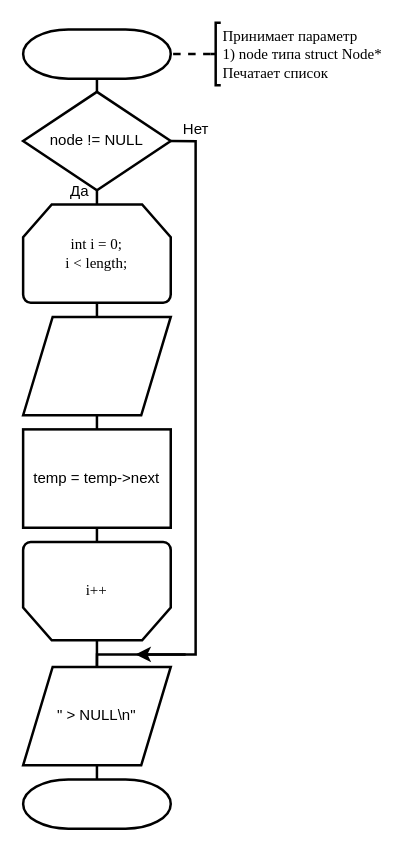
Some shapes in this 404 by 851 pixel diagram are drawn without their labels. Each missing label, with the centre of its shape:
" > " + temp->data: point 96,365
void print_list(): point 96,53
Конец: point 96,803
